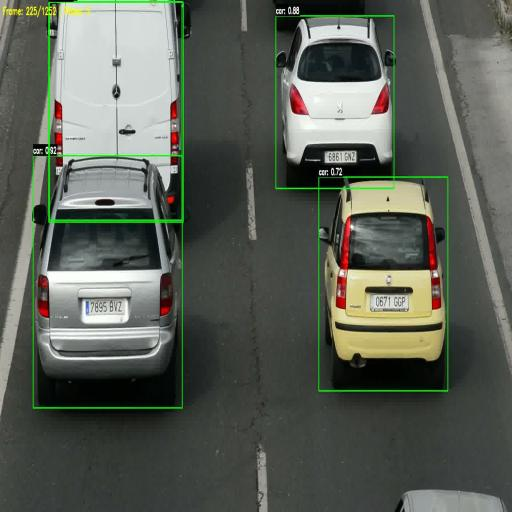license-plate: (84, 298, 126, 316), (370, 294, 409, 311), (325, 150, 357, 164)
